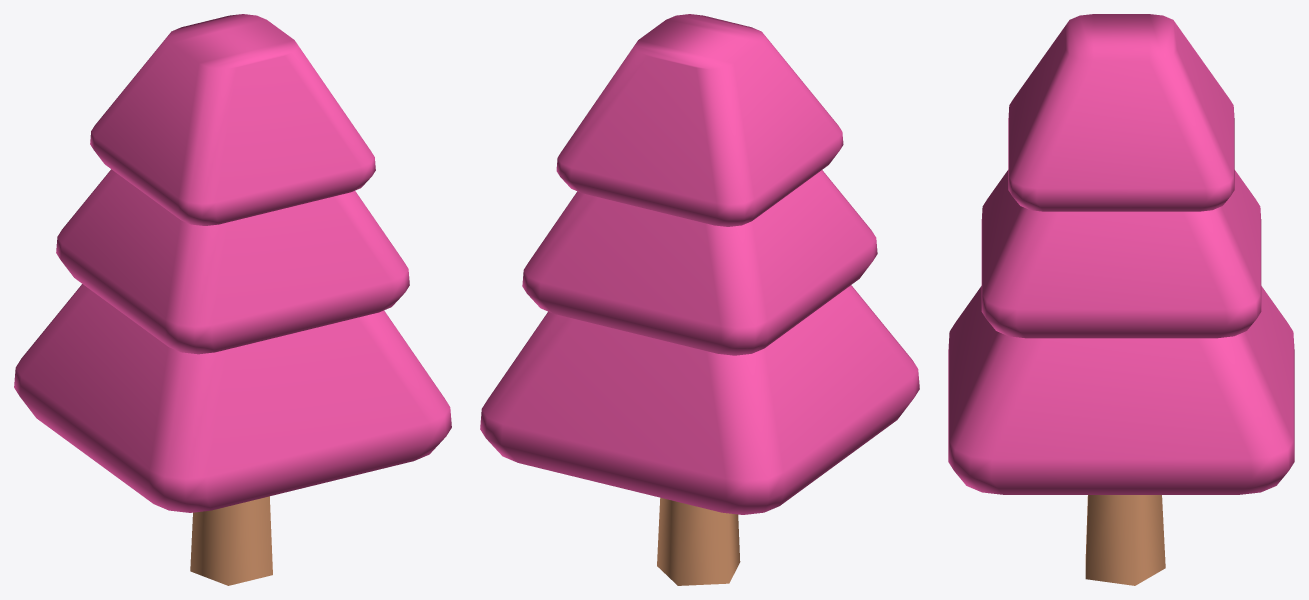
Rendered from Tree_8.fbx.
3 views of the same model, side by side, from view 1: azimuth 30°, elevation 25°; view 2: azimuth 150°, elevation 25°; view 3: azimuth 270°, elevation 25° (orthographic).
Visible parts, largest first — view 1: pCube29, pCube28, pCube27, polySurface169; view 2: pCube29, pCube28, pCube27, polySurface169; view 3: pCube29, pCube27, pCube28, polySurface169.
Boxes of the visible parts, left/top/right/bottom form: pCube29: left=14, top=284, right=451, bottom=512; pCube28: left=56, top=169, right=409, bottom=354; pCube27: left=90, top=14, right=375, bottom=225; polySurface169: left=190, top=496, right=272, bottom=585; pCube29: left=480, top=285, right=919, bottom=514; pCube28: left=522, top=170, right=877, bottom=355; pCube27: left=556, top=14, right=843, bottom=226; polySurface169: left=657, top=497, right=740, bottom=585; pCube29: left=948, top=286, right=1294, bottom=494; pCube27: left=1008, top=14, right=1234, bottom=211; pCube28: left=981, top=170, right=1261, bottom=338; polySurface169: left=1085, top=495, right=1165, bottom=585.
Bounding box in the file's own units: 15.95 × 26.97 × 15.95.
